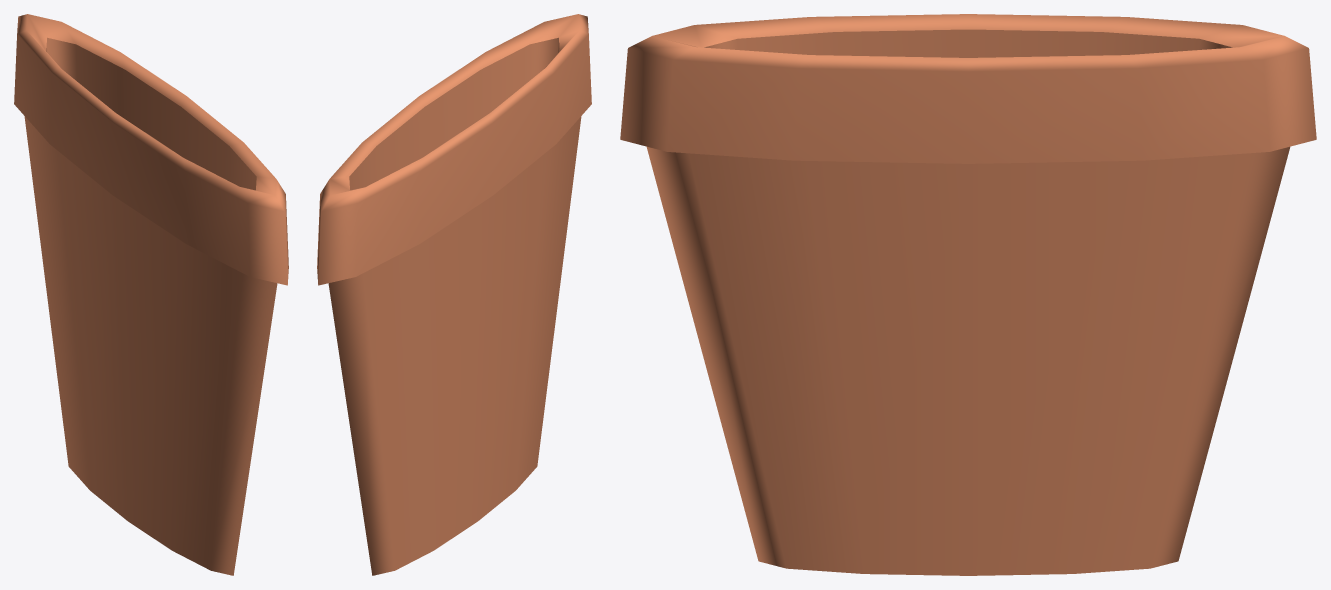
The model's file is platte plantenpot.fbx.
The picture shows the model from 3 angles, left to right: view 1: azimuth 30°, elevation 25°; view 2: azimuth 150°, elevation 25°; view 3: azimuth 270°, elevation 25°; orthographic projection. The views are drawn at different scales.
Visible parts, largest first — view 1: pCylinder18; view 2: pCylinder18; view 3: pCylinder18.
Boxes of the visible parts, <box> form: pCylinder18: <box>14,14,288,575</box>; pCylinder18: <box>317,14,591,575</box>; pCylinder18: <box>620,14,1316,575</box>.
Bounding box in the file's own units: 0.2759 × 1.4 × 1.68.
